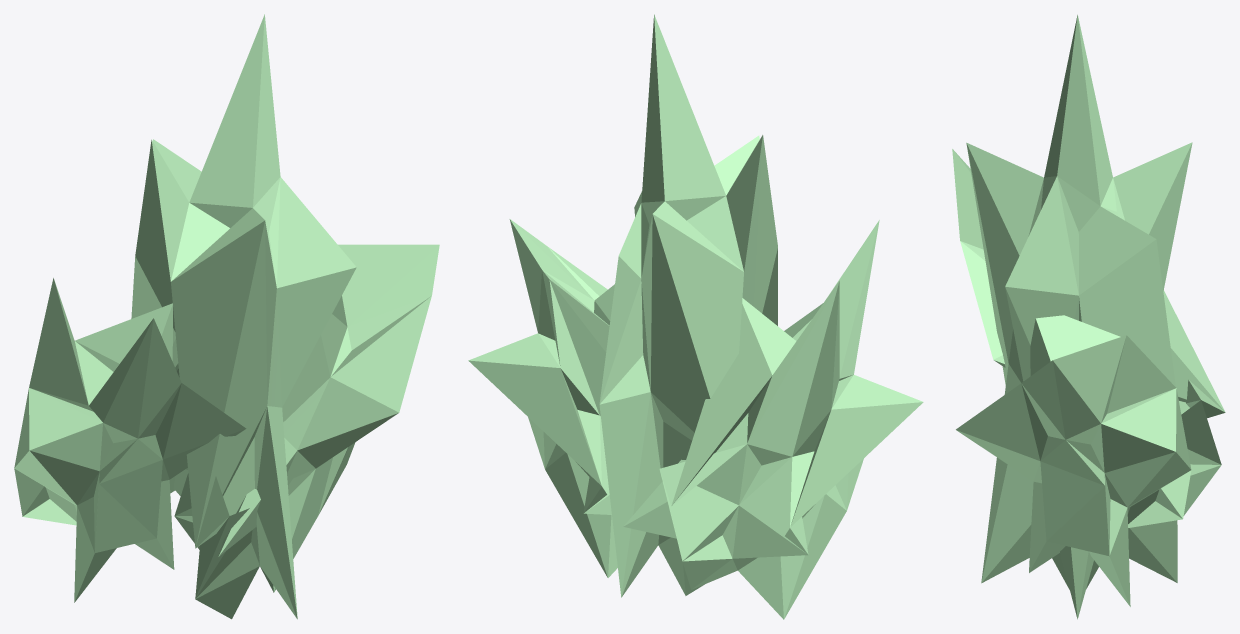
The picture shows the model from 3 angles, left to right: view 1: azimuth 30°, elevation 25°; view 2: azimuth 150°, elevation 25°; view 3: azimuth 270°, elevation 25°; orthographic projection. The views are drawn at different scales.
Parts seen in each view (by area): view 1: Object09; view 2: Object09; view 3: Object09.
Part boxes in pixels (bbox=[...]): Object09: bbox=[14, 14, 439, 619]; Object09: bbox=[468, 14, 923, 619]; Object09: bbox=[952, 15, 1225, 619].
Size of the model in its own units: 212 by 288 by 118.
